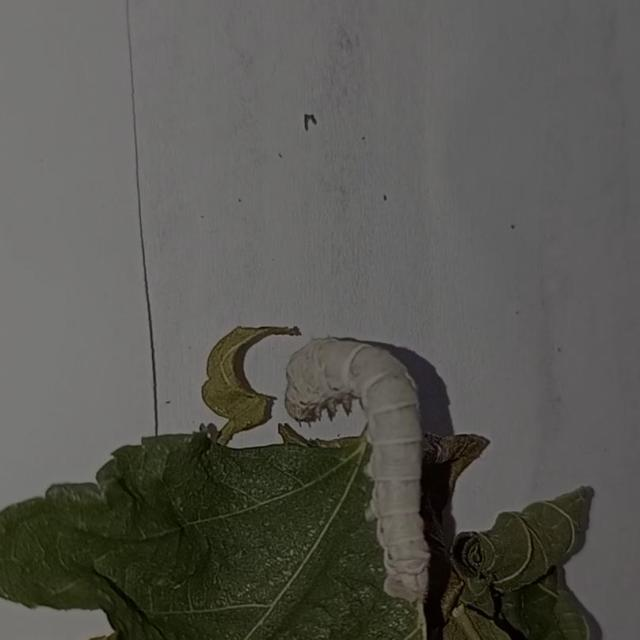Healthy: (257, 310, 482, 622)
